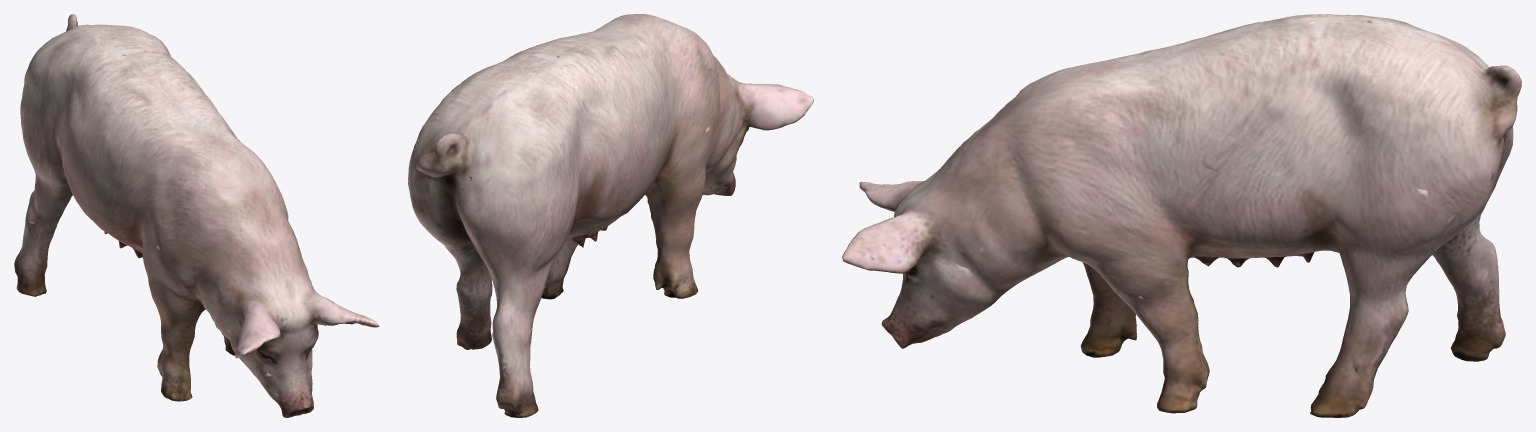
File: pig.gltf
3 views of the same model, side by side, from view 1: azimuth 30°, elevation 25°; view 2: azimuth 150°, elevation 25°; view 3: azimuth 270°, elevation 25° (orthographic). The views are drawn at different scales.
Parts seen in each view (by area): view 1: 动物_猪; view 2: 动物_猪; view 3: 动物_猪.
Boxes of the visible parts, left/top/right/bottom form: 动物_猪: left=14, top=14, right=379, bottom=417; 动物_猪: left=408, top=14, right=813, bottom=417; 动物_猪: left=842, top=14, right=1521, bottom=417.
Size of the model in its own units: 0.3839 by 0.7144 by 1.25.
1 material, 1 textured.
